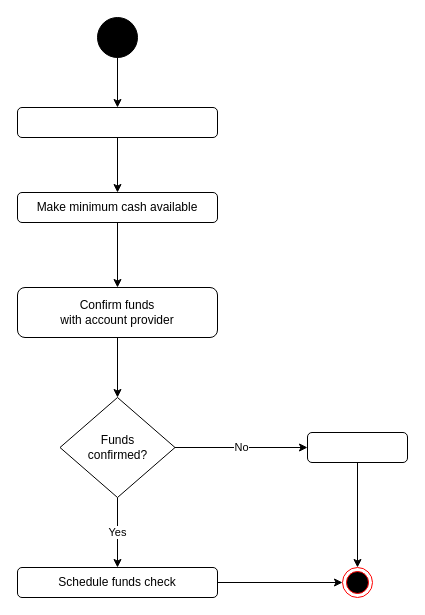
Image size: 425x615. Some labels were removed from this diagram. Here are the shapes that lost their labels. From the top down, the box of each, then its label:
(16, 106, 218, 138): Make deposit request
(306, 432, 408, 462): Error
